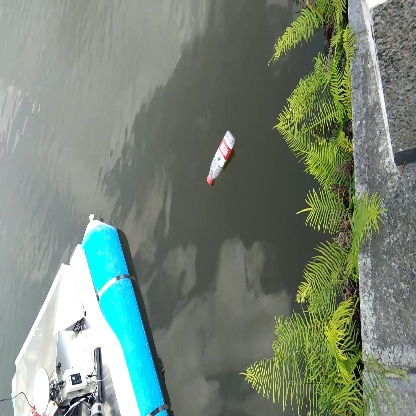bottle: (203, 128, 235, 190)
